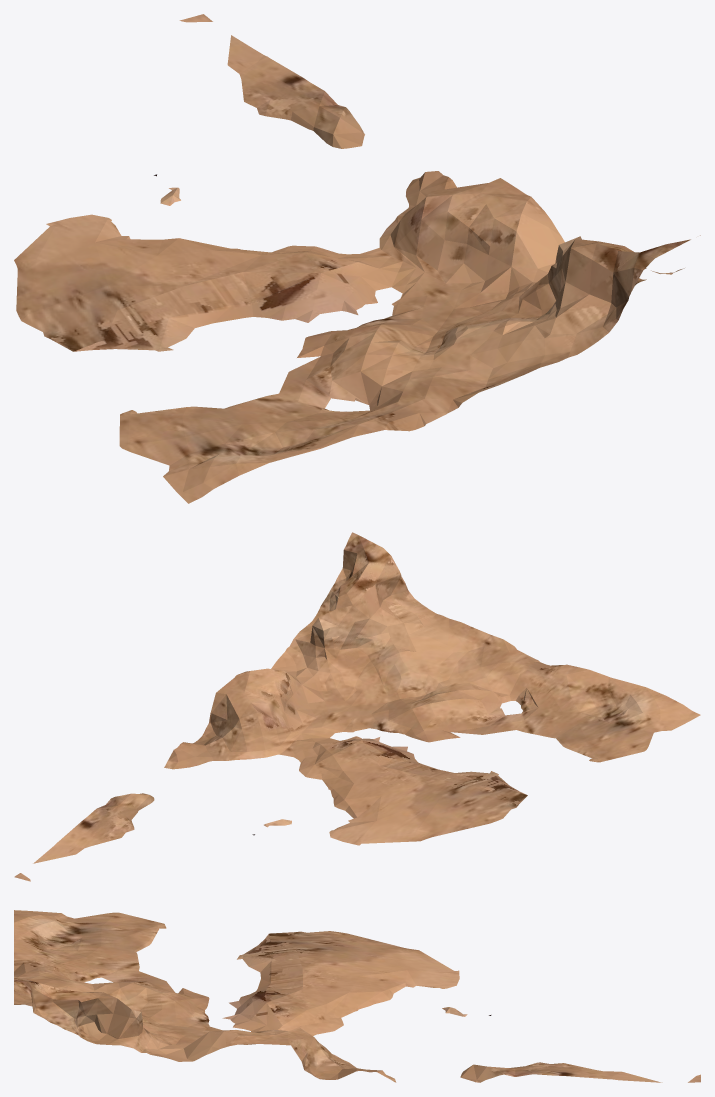
3 views of the same model, one above another, from view 1: azimuth 30°, elevation 25°; view 2: azimuth 150°, elevation 25°; view 3: azimuth 270°, elevation 25° (orthographic). The views are drawn at different scales.
Size of the model in its own units: 0.6215 by 0.1664 by 1.04.
Materials: 1 (1 with a texture image).
